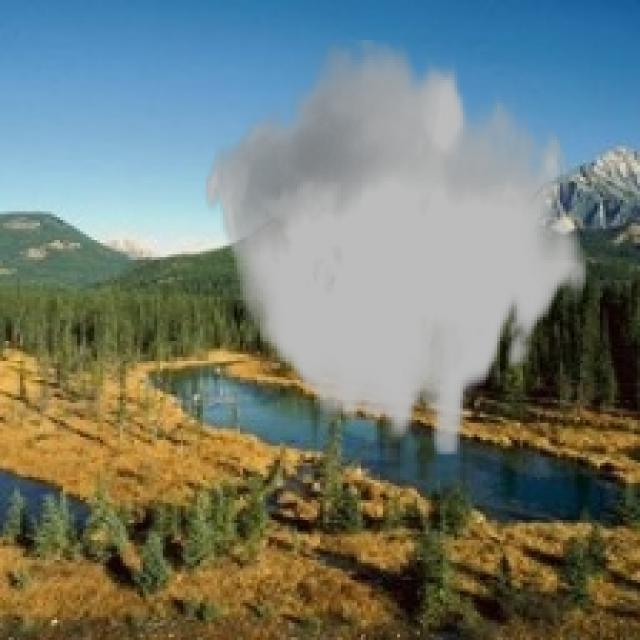Smoke: (202, 39, 588, 454)
